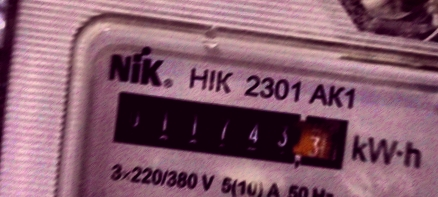0: (125, 101, 142, 130)
1: (186, 108, 201, 137), (157, 104, 170, 132)
3: (274, 121, 291, 149), (304, 133, 321, 159)
4: (244, 117, 261, 146)
7: (214, 111, 233, 140)
screen: (100, 79, 360, 181)
